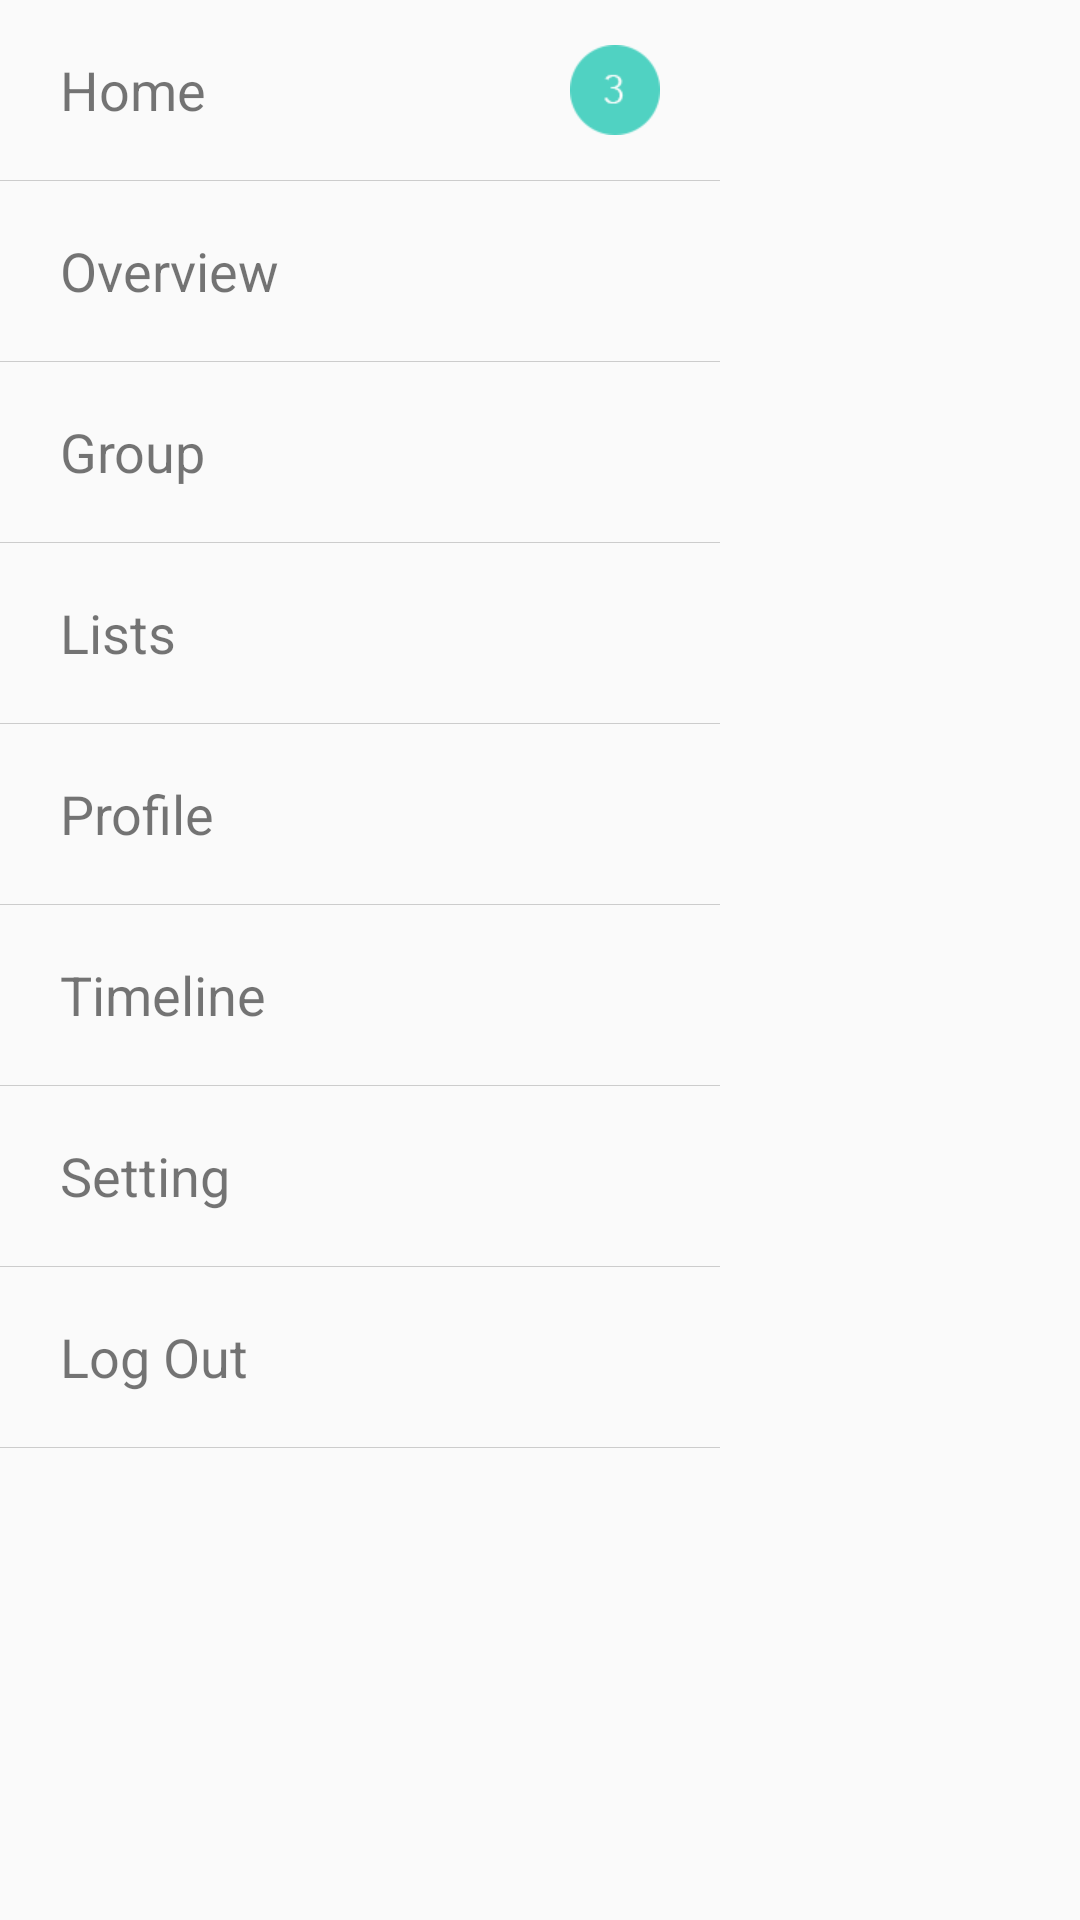

Where icons sit on this 1080w x 1920h app screen, as rect(x1, y1, x2, y2):
notice: rect(570, 45, 660, 135)
